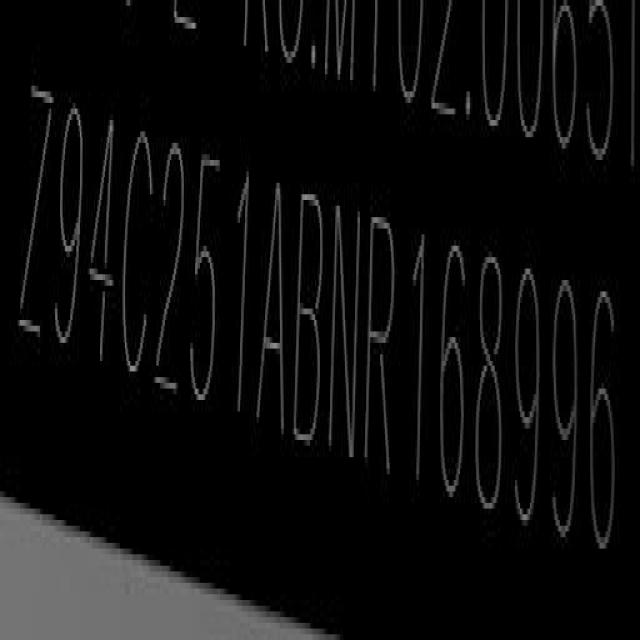1: (226, 170, 254, 420), (409, 235, 428, 492)
2: (157, 133, 184, 412)
4: (88, 110, 119, 363)
5: (187, 144, 224, 421)
6: (434, 236, 467, 515), (588, 282, 618, 549)
8: (474, 243, 503, 512)
9: (544, 261, 583, 540), (511, 261, 541, 532), (55, 92, 84, 352)
A: (256, 192, 289, 438)
B: (291, 178, 326, 446)
C: (118, 130, 154, 380)
N: (326, 197, 362, 463)
R: (364, 212, 398, 480)
Z: (18, 61, 49, 346)
